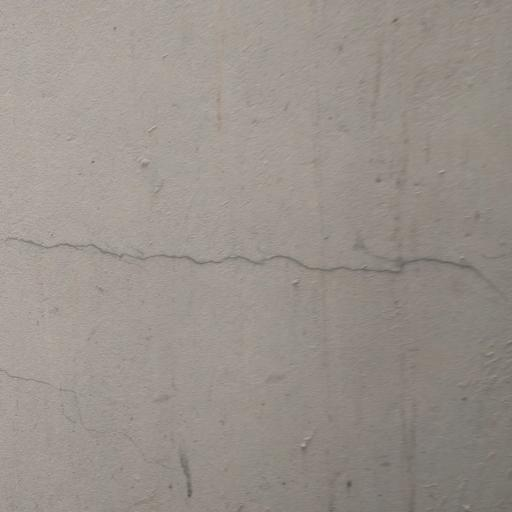minor_crack: (0, 216, 512, 304), (2, 351, 181, 479)
